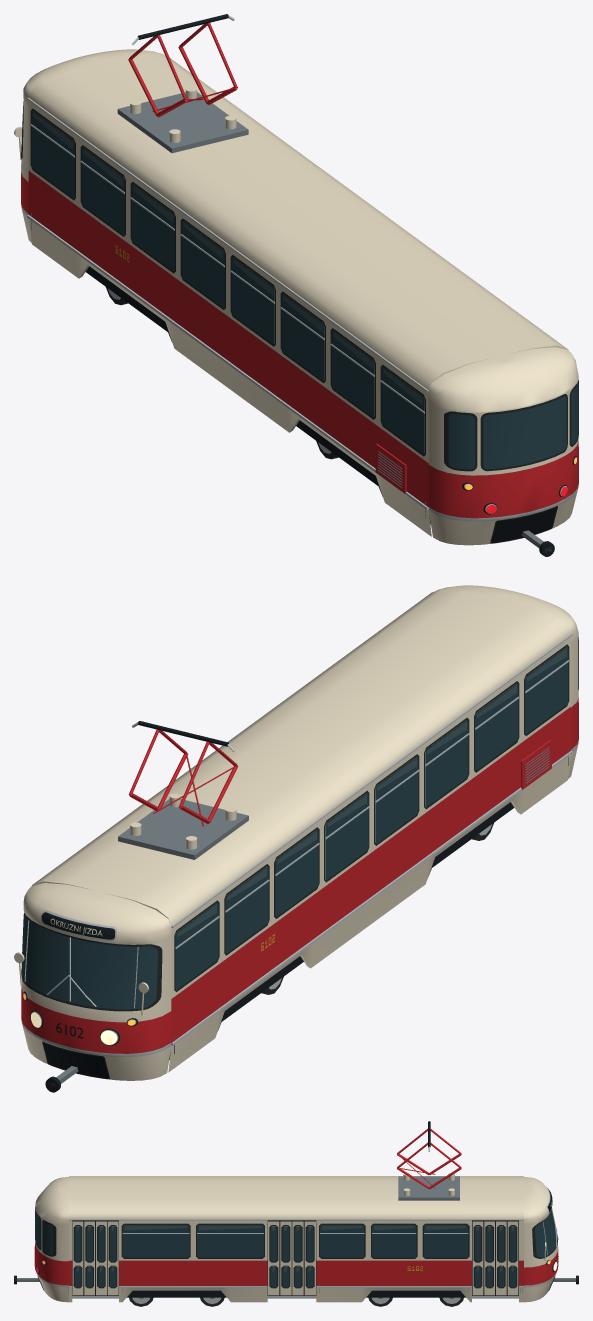
The model's file is t3-viewer.glb.
The picture shows the model from 3 angles, top to bottom: view 1: azimuth 30°, elevation 25°; view 2: azimuth 150°, elevation 25°; view 3: azimuth 270°, elevation 25°; orthographic projection. The views are drawn at different scales.
Parts seen in each view (by area): view 1: t3; view 2: t3; view 3: t3, t3-door-1-0.120-1, t3-door-1-0.120-2, t3-door-1-0.120-0, t3-door-1-0.120-3, t3-door-1-5.370-0, t3-door-1-5.370-3, t3-door-1--5.320-0, t3-door-1--5.320-3, t3-door-1-5.370-1, t3-door-1-5.370-2, t3-door-1--5.320-1 (+1 smaller).
Part boxes in pixels (box(x1,y1,x2,y2)): t3: box(14, 14, 578, 556); t3: box(14, 585, 578, 1092); t3: box(14, 1121, 578, 1306); t3-door-1-0.120-1: box(292, 1221, 303, 1295); t3-door-1-0.120-2: box(280, 1221, 291, 1295); t3-door-1-0.120-0: box(304, 1221, 315, 1295); t3-door-1-0.120-3: box(268, 1221, 279, 1295); t3-door-1-5.370-0: box(107, 1221, 118, 1295); t3-door-1-5.370-3: box(72, 1221, 83, 1295); t3-door-1--5.320-0: box(507, 1221, 518, 1295); t3-door-1--5.320-3: box(472, 1221, 483, 1295); t3-door-1-5.370-1: box(96, 1221, 106, 1295); t3-door-1-5.370-2: box(84, 1221, 94, 1295); t3-door-1--5.320-1: box(496, 1221, 506, 1295).
Bounding box in the file's own units: 2.62 × 4.73 × 15.1.
